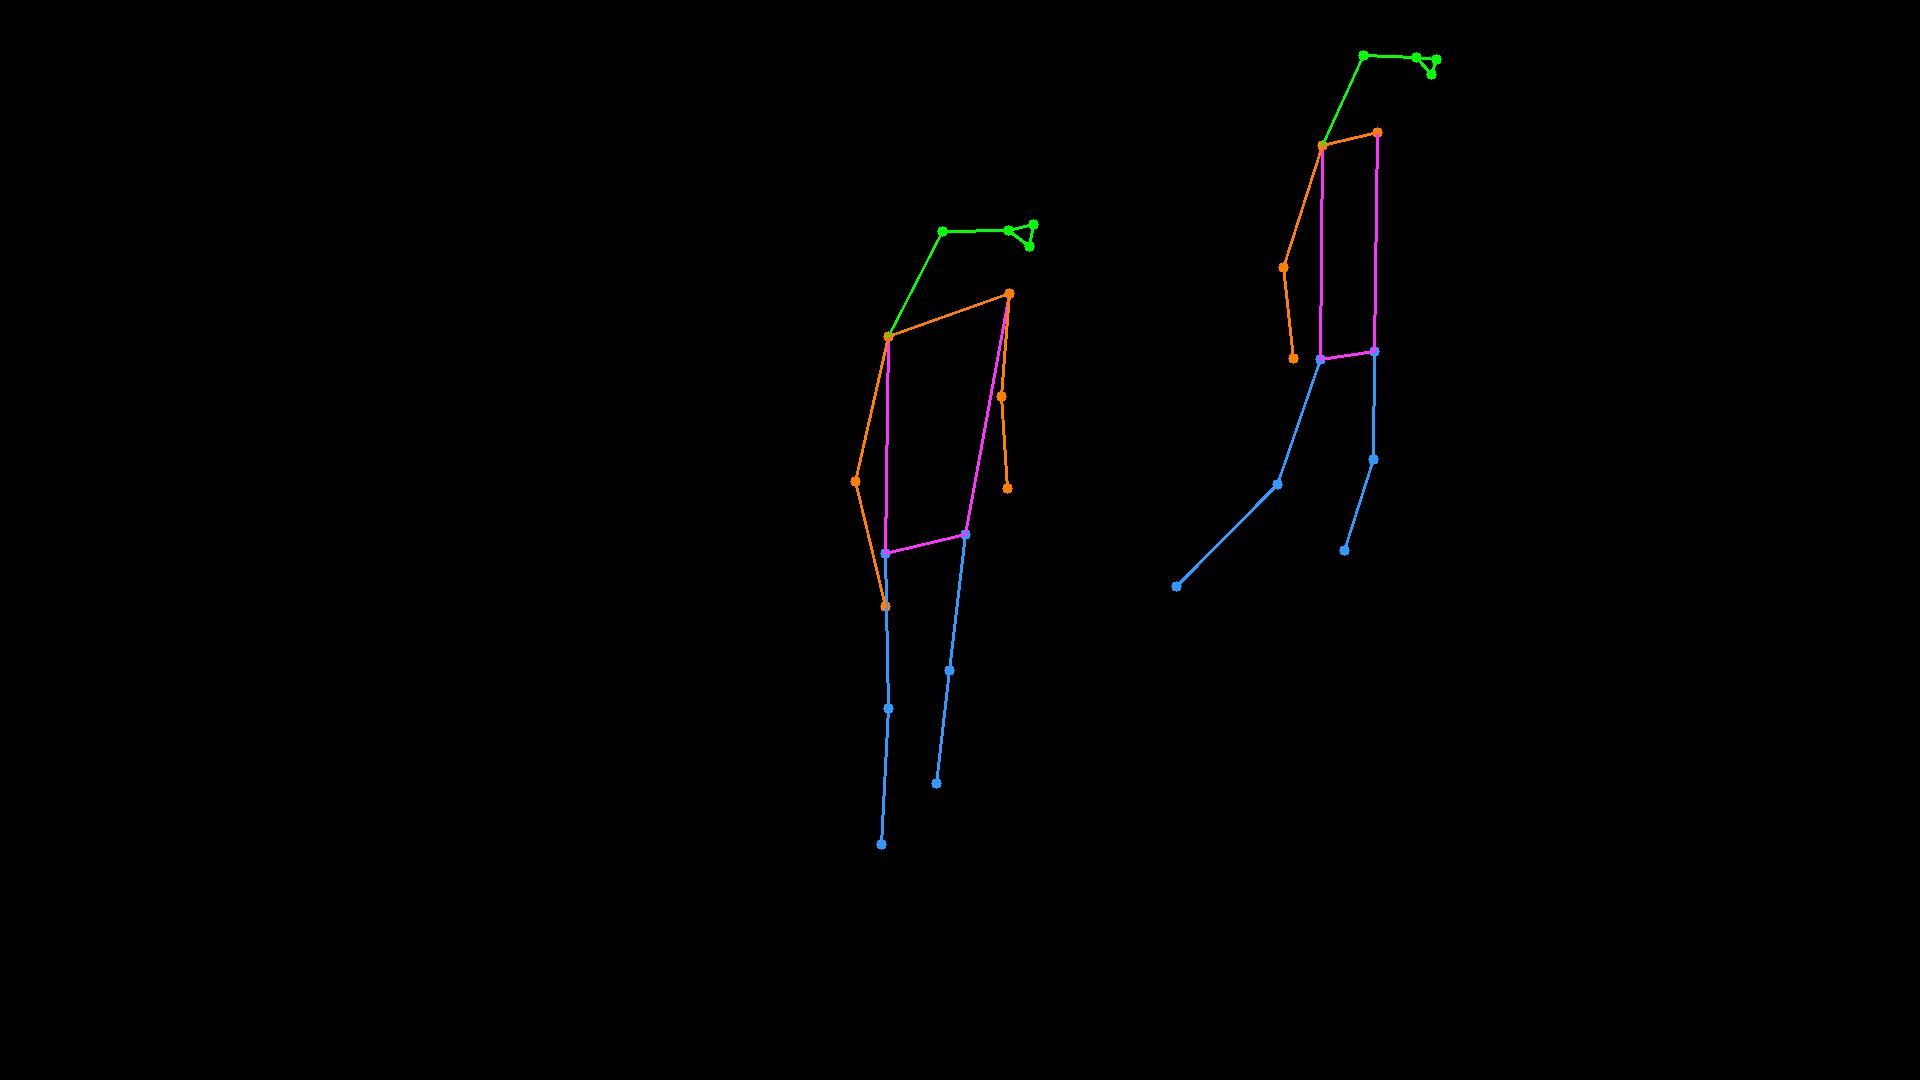normal: (1125, 21, 1511, 617), (814, 181, 1056, 890)
